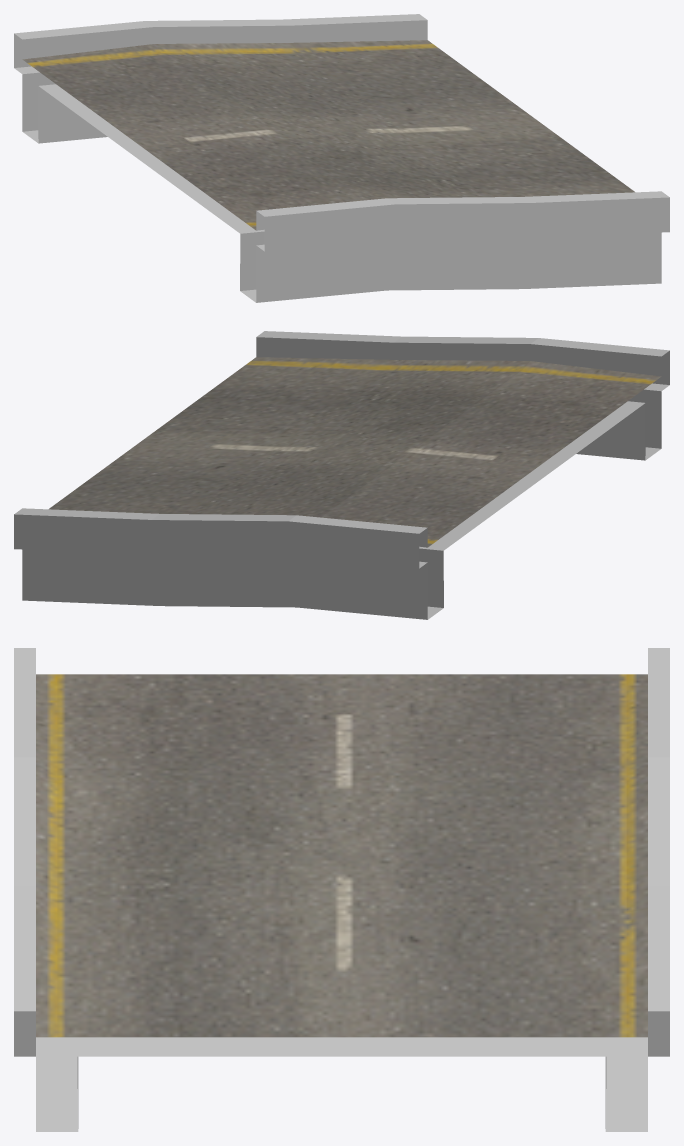
The model's file is Urban_Road1BridgeRampNoSides_Model.fbx.
3 views of the same model, one above another, from view 1: azimuth 30°, elevation 25°; view 2: azimuth 150°, elevation 25°; view 3: azimuth 270°, elevation 25° (orthographic). The views are drawn at different scales.
Parts seen in each view (by area): view 1: Urban_Road1BridgeRampNoSides_Mesh; view 2: Urban_Road1BridgeRampNoSides_Mesh; view 3: Urban_Road1BridgeRampNoSides_Mesh.
Part boxes in pixels (x1,y1,x2,y2): Urban_Road1BridgeRampNoSides_Mesh: (14,14,669,302); Urban_Road1BridgeRampNoSides_Mesh: (14,331,669,619); Urban_Road1BridgeRampNoSides_Mesh: (14,648,669,1131).
Bounding box in the file's own units: 16 × 6.48 × 17.13.
